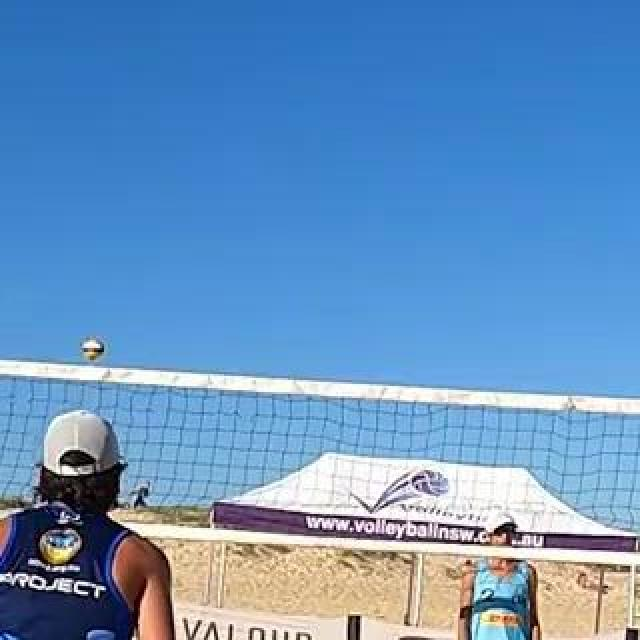volleyball: (81, 337, 105, 359)
